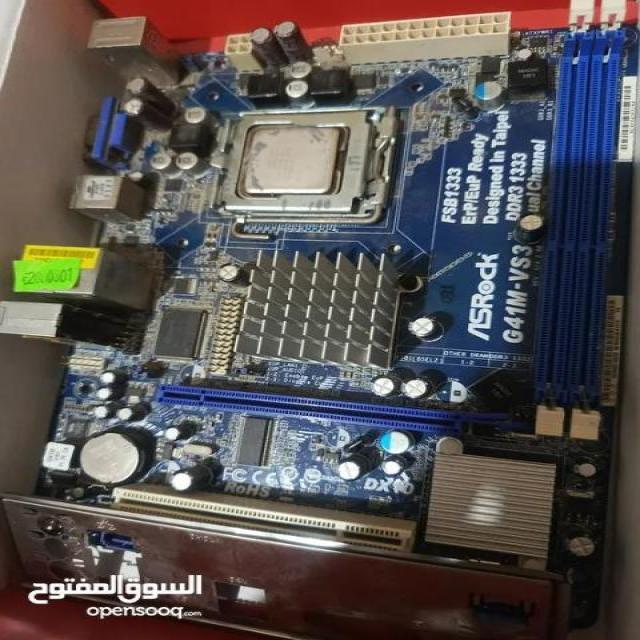CPU: (242, 126, 338, 194)
